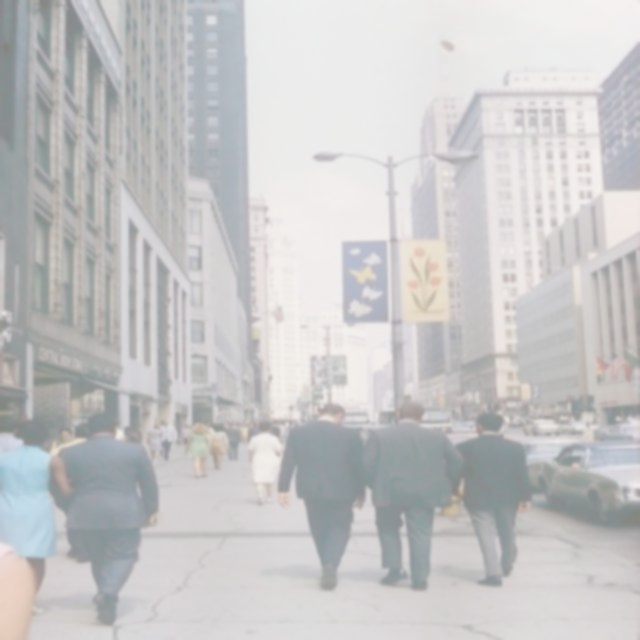pessoa: (47, 410, 162, 626), (356, 399, 469, 591), (274, 402, 370, 592), (452, 412, 532, 586), (0, 538, 42, 640), (246, 419, 285, 506), (184, 421, 214, 478), (52, 422, 92, 456), (0, 413, 27, 455), (208, 424, 231, 471), (156, 418, 180, 461), (569, 448, 612, 470), (146, 421, 164, 463), (225, 421, 241, 462), (50, 426, 74, 453), (114, 425, 140, 443), (156, 420, 166, 458), (612, 412, 639, 425), (356, 422, 369, 446), (181, 424, 192, 451), (503, 411, 522, 426), (280, 420, 288, 452), (240, 421, 250, 444), (556, 412, 572, 425), (287, 418, 302, 430), (270, 419, 280, 436), (536, 412, 555, 420), (460, 413, 476, 422), (204, 421, 215, 434), (522, 418, 536, 426), (251, 420, 258, 436), (220, 421, 230, 431), (246, 426, 251, 444), (370, 416, 379, 426), (233, 422, 242, 429), (257, 424, 263, 434), (243, 421, 250, 426), (188, 424, 193, 430)
